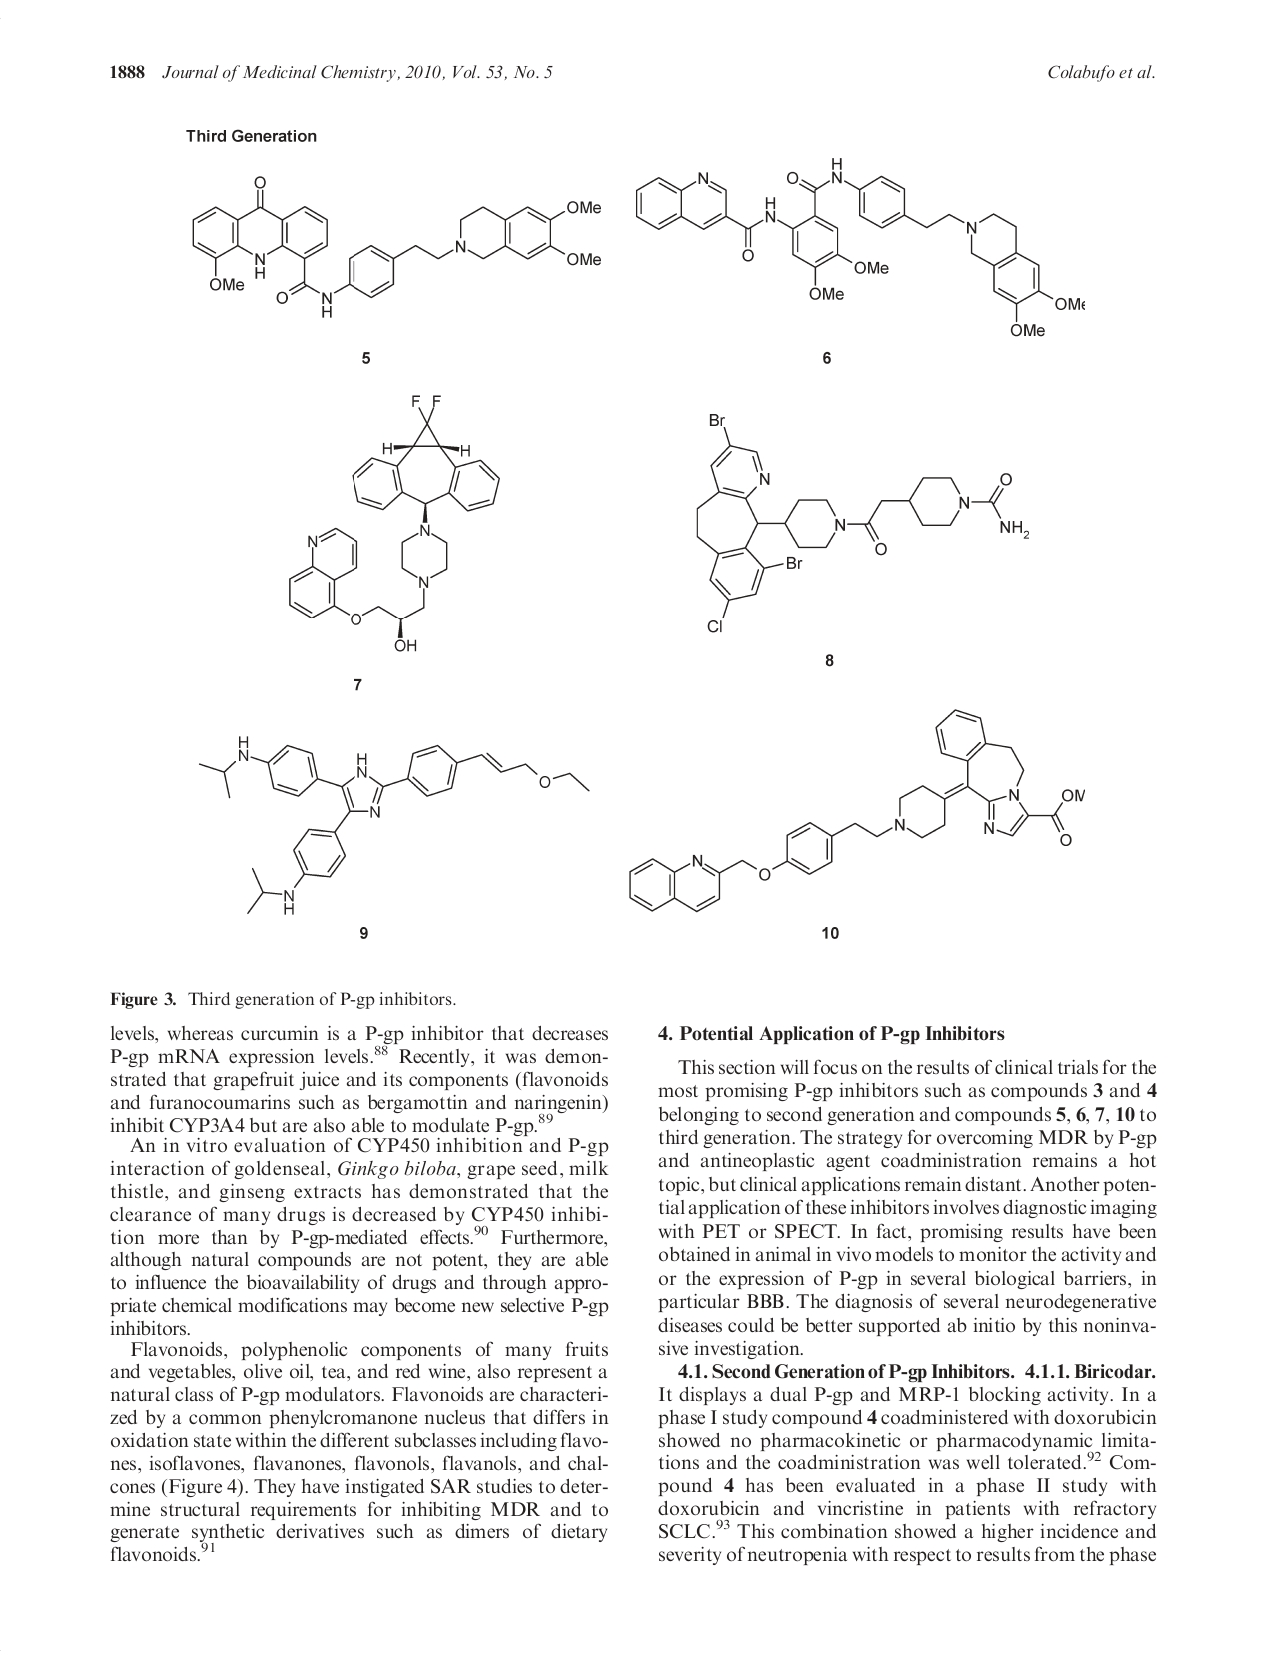exist_molecular: (626, 706, 1088, 912), (633, 156, 1090, 340), (693, 407, 1031, 636), (197, 735, 592, 918), (190, 170, 605, 321), (287, 391, 504, 656)
